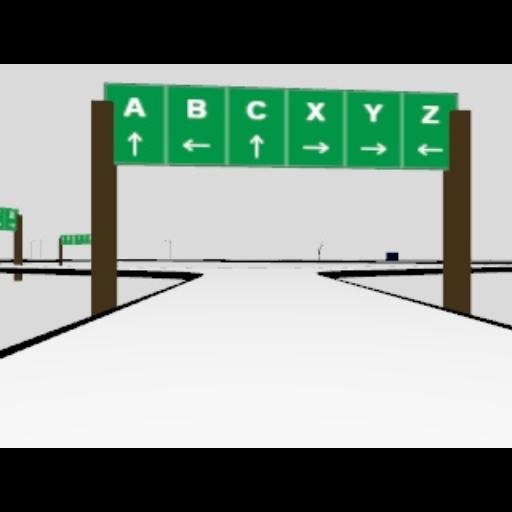A: (122, 96, 146, 116)
B: (186, 98, 206, 118)
C: (246, 100, 268, 122)
Left: (181, 138, 211, 152), (416, 142, 444, 156)
Right: (301, 140, 331, 154), (358, 142, 388, 156)
Straight: (126, 131, 142, 155), (248, 135, 264, 157)
X: (306, 100, 324, 120)
Y: (364, 102, 382, 122)
Z: (420, 104, 440, 124), (0, 206, 6, 220), (8, 209, 14, 219), (10, 208, 18, 214)
